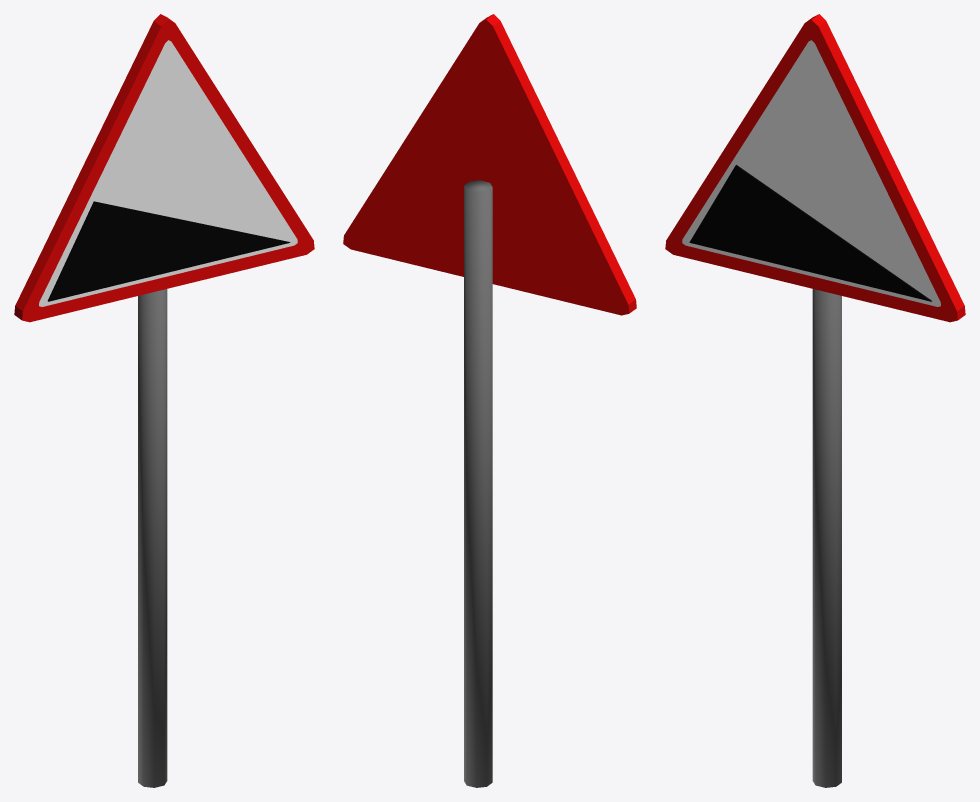
File: Prop_StreetSign_Slope.fbx
The picture shows the model from 3 angles, left to right: view 1: azimuth 30°, elevation 25°; view 2: azimuth 150°, elevation 25°; view 3: azimuth 330°, elevation 25°; orthographic projection. The views are drawn at different scales.
Parts seen in each view (by area): view 1: Prop_StreetSign_Slope; view 2: Prop_StreetSign_Slope; view 3: Prop_StreetSign_Slope.
Boxes of the visible parts, x1,y1,x2,y2 form: Prop_StreetSign_Slope: (14,14,314,787); Prop_StreetSign_Slope: (343,14,636,787); Prop_StreetSign_Slope: (665,14,965,787).
Bounding box in the file's own units: 166 × 420 × 23.48.
